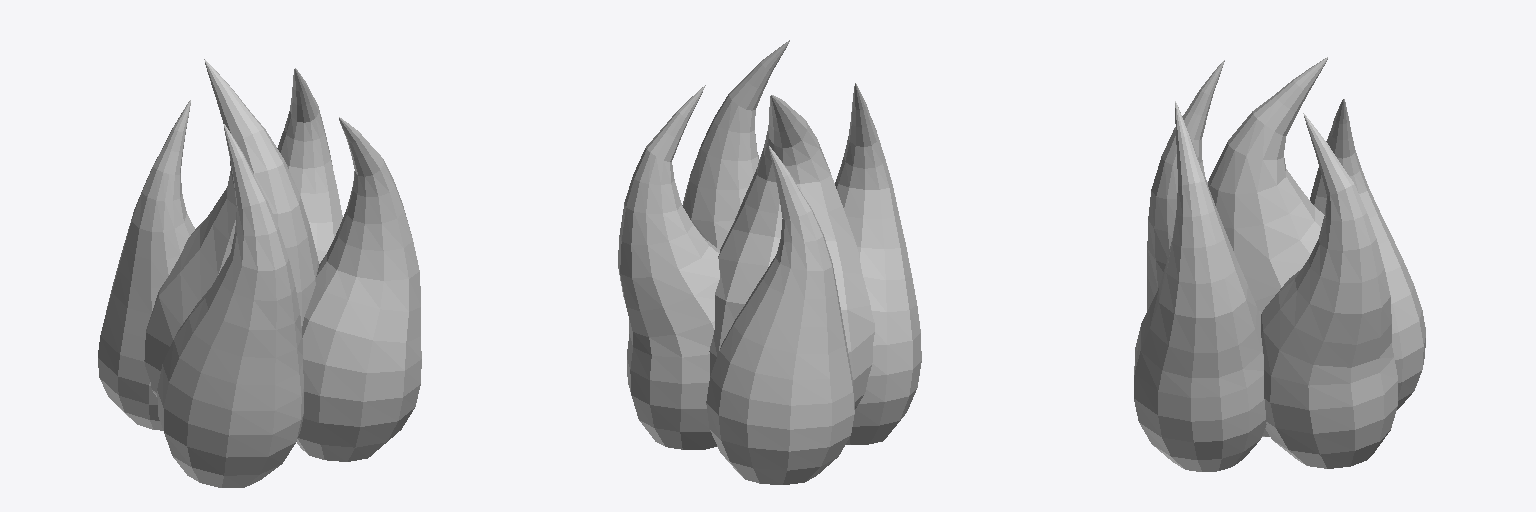
The model's file is fire_000045.obj.
3 renders of one model, left to right at view 1: azimuth 30°, elevation 25°; view 2: azimuth 150°, elevation 25°; view 3: azimuth 270°, elevation 25°, orthographic.
Visible parts, largest first — view 1: flame_NurbsPath.015; view 2: flame_NurbsPath.015; view 3: flame_NurbsPath.015.
Boxes of the visible parts, x1,y1,x2,y2 form: flame_NurbsPath.015: [98, 59, 421, 487]; flame_NurbsPath.015: [618, 40, 921, 484]; flame_NurbsPath.015: [1134, 57, 1425, 471].
Size of the model in its own units: 0.7548 by 1.13 by 0.8061.